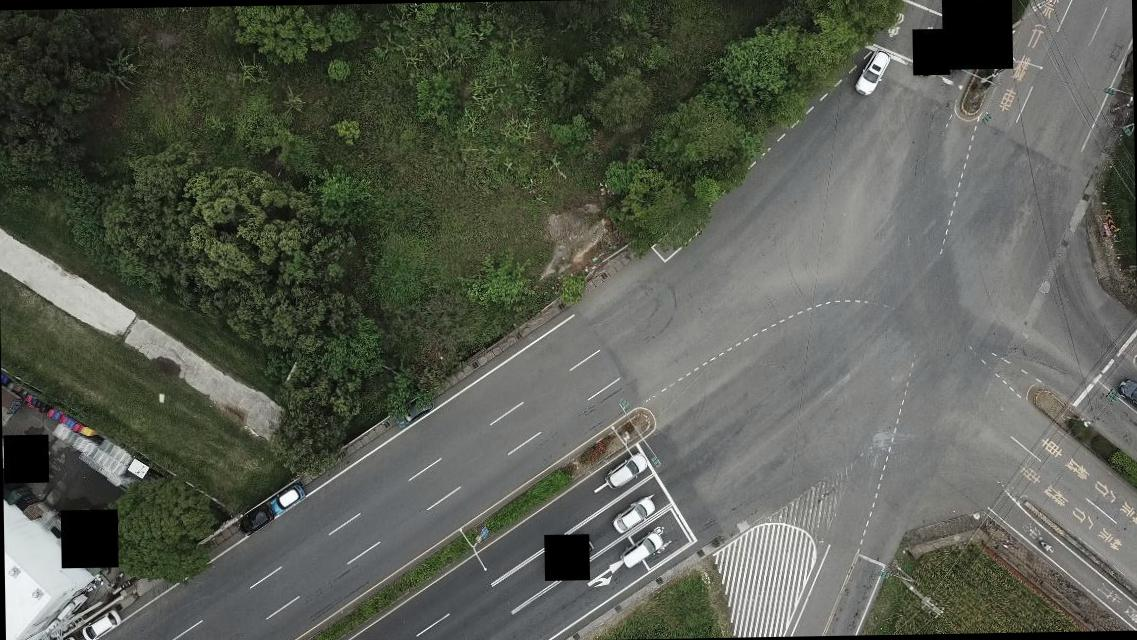vehicle: (851, 49, 892, 95), (610, 496, 655, 534), (392, 393, 438, 428), (620, 532, 662, 568), (604, 454, 648, 488), (237, 504, 271, 537), (270, 484, 306, 514)
